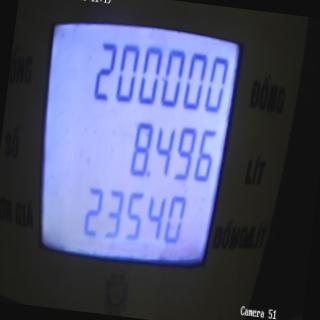screen: (21, 2, 252, 292)
